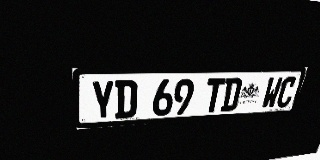6: (152, 79, 175, 116)
9: (172, 79, 195, 115)
C: (275, 77, 298, 108)
D: (115, 80, 138, 119), (220, 78, 243, 112)
T: (203, 78, 226, 113)
W: (260, 77, 283, 109)
Y: (90, 80, 114, 120)
